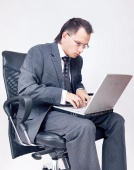male: (59, 20, 91, 59)
